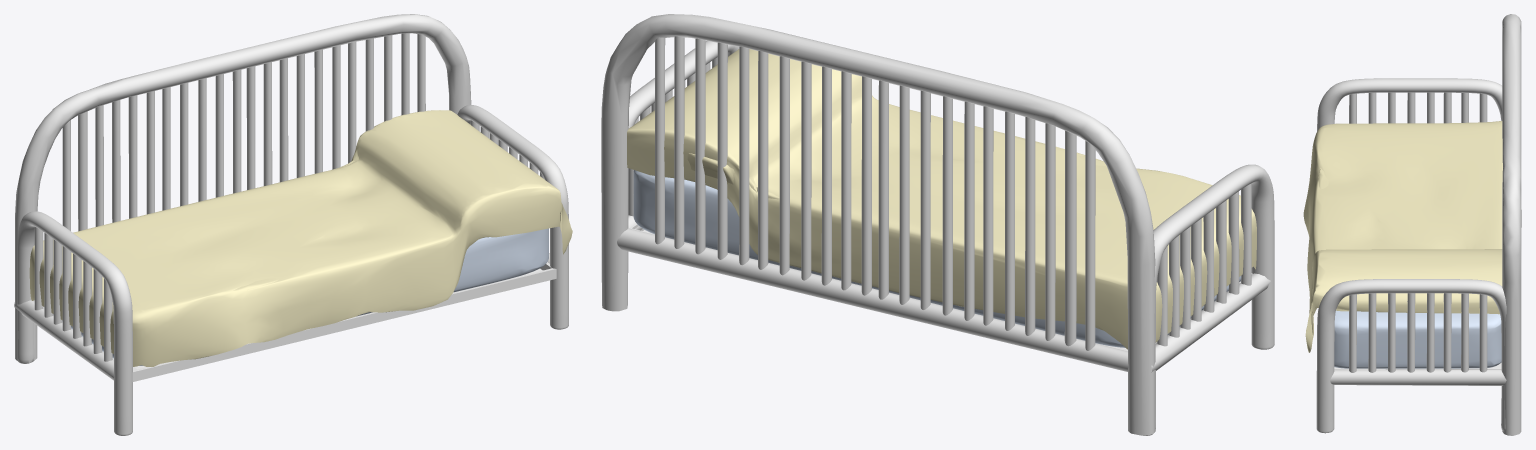
The model's file is daybed_with_spindle_back.glb.
3 renders of one model, left to right at view 1: azimuth 30°, elevation 25°; view 2: azimuth 150°, elevation 25°; view 3: azimuth 270°, elevation 25°, orthographic. The views are drawn at different scales.
Parts seen in each view (by area): view 1: Object_4, Object_7, Object_5, Object_6, Object_3, Object_2; view 2: Object_7, Object_4, Object_5, Object_6, Object_2; view 3: Object_4, Object_7, Object_5, Object_2, Object_6.
Part boxes in pixels (x1,y1,x2,y2): Object_4: [29, 110, 572, 366]; Object_7: [14, 14, 568, 380]; Object_5: [44, 62, 544, 361]; Object_6: [17, 211, 132, 435]; Object_3: [43, 262, 556, 381]; Object_2: [53, 228, 548, 365]; Object_7: [601, 14, 1270, 435]; Object_4: [627, 49, 1256, 349]; Object_5: [628, 57, 1251, 350]; Object_6: [1143, 164, 1274, 435]; Object_2: [633, 170, 1241, 347]; Object_4: [1303, 121, 1502, 352]; Object_7: [1316, 14, 1521, 435]; Object_5: [1349, 92, 1487, 372]; Object_2: [1334, 310, 1501, 368]; Object_6: [1317, 78, 1502, 131].
Bounding box in the file's own units: 4.1 × 2.22 × 1.8.
